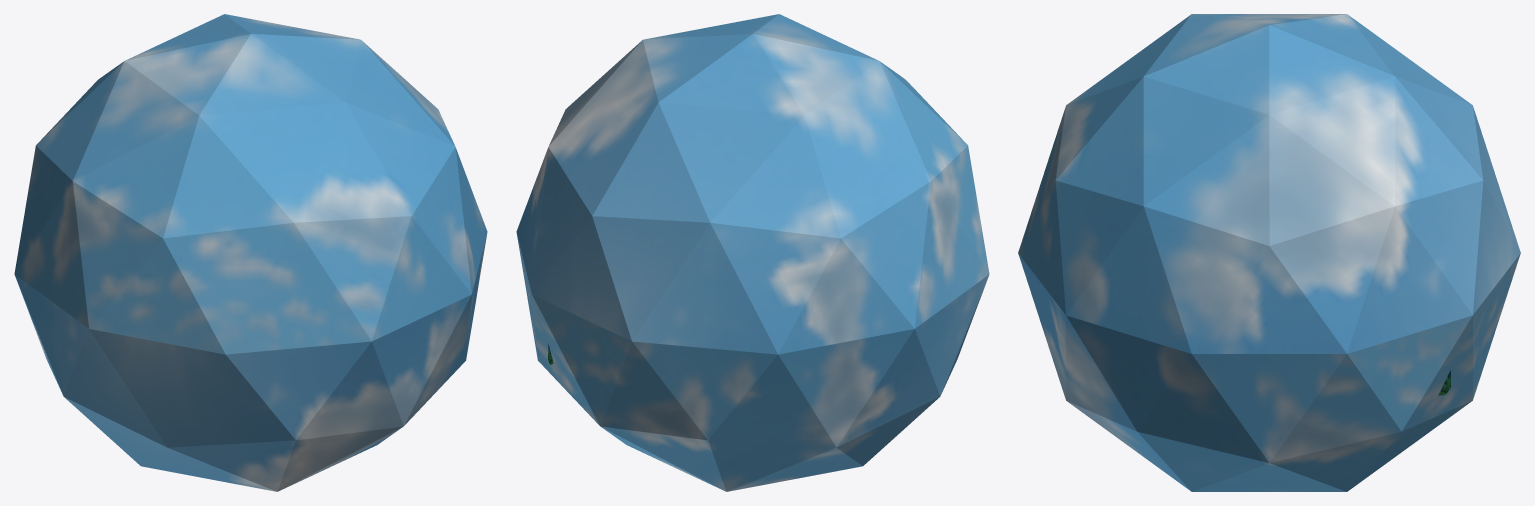
File: temple.obj
3 views of the same model, side by side, from view 1: azimuth 30°, elevation 25°; view 2: azimuth 150°, elevation 25°; view 3: azimuth 270°, elevation 25° (orthographic). The views are drawn at different scales.
Parts seen in each view (by area): view 1: Cube; view 2: Cube; view 3: Cube.
Boxes of the visible parts, box(x1,y1,x2,y2) form: Cube: box(14, 14, 487, 491); Cube: box(516, 14, 989, 491); Cube: box(1018, 14, 1520, 491).
Bounding box in the file's own units: 444 × 467 × 467.
